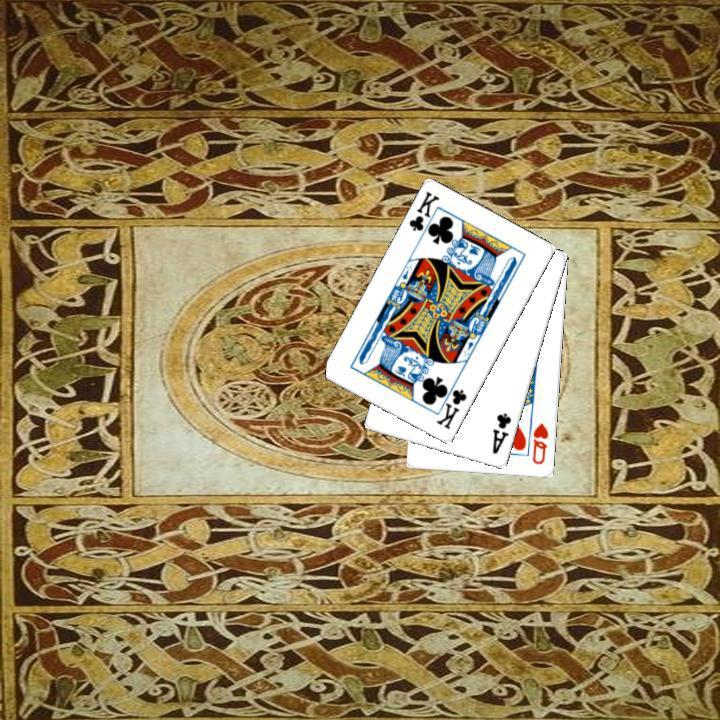A: (488, 409, 514, 456)
K: (405, 187, 442, 243), (431, 377, 469, 431)
Q: (529, 419, 551, 467)
